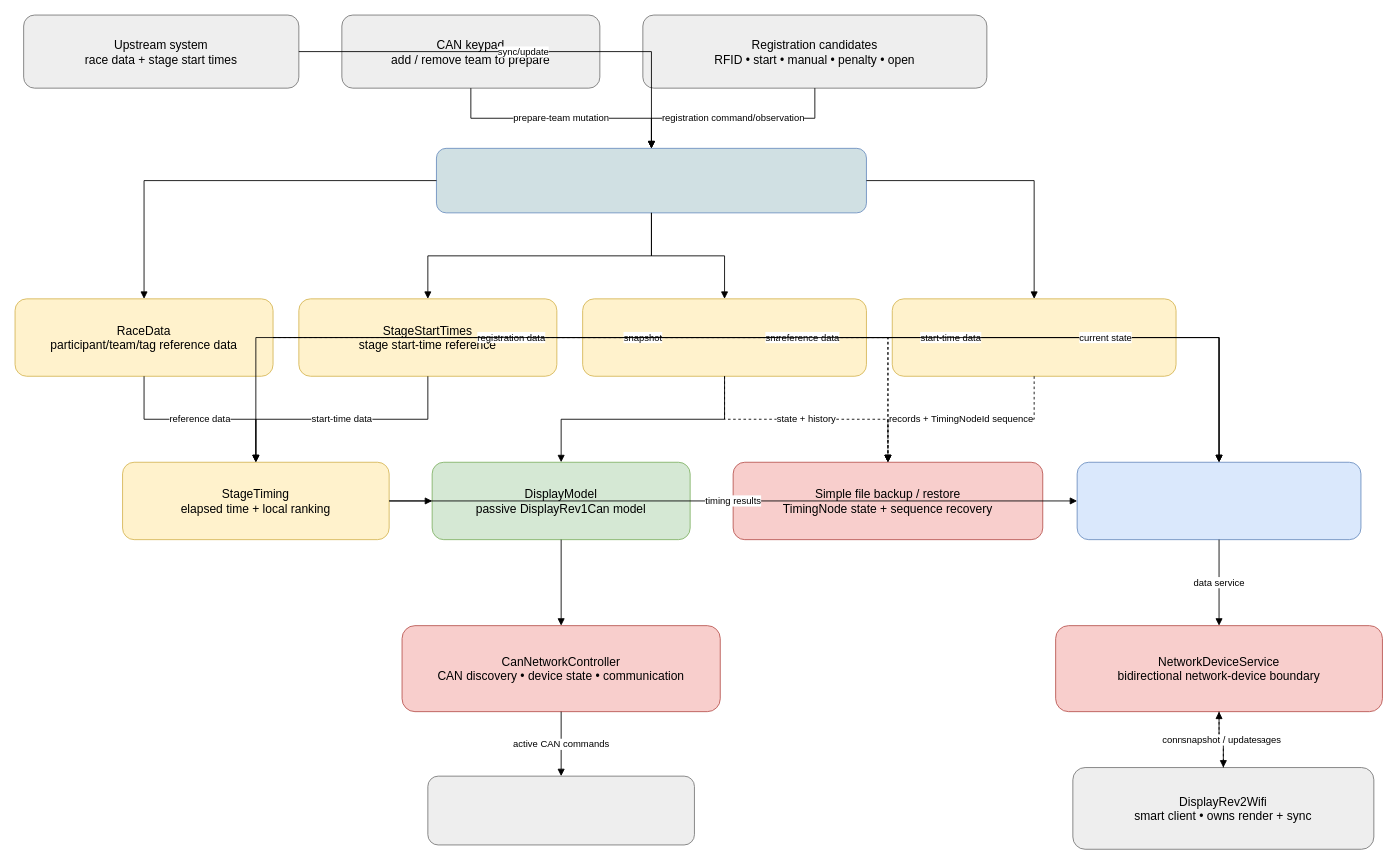
This 1398x864 diagram has some shape labels left out. The centre of each missing label's shape, as x and y in pixels:
"DisplayRev1Can passive CAN display" goes at [560,810].
"LogBook registrations + TimingNodeId ordering" goes at [1033,337].
"NextUpTeams teams expected next + traceable history" goes at [724,337].
"Published timing/status/reference data current snapshot + updates" goes at [1218,500].
"TimingNode serialized ingress" goes at [651,180].
